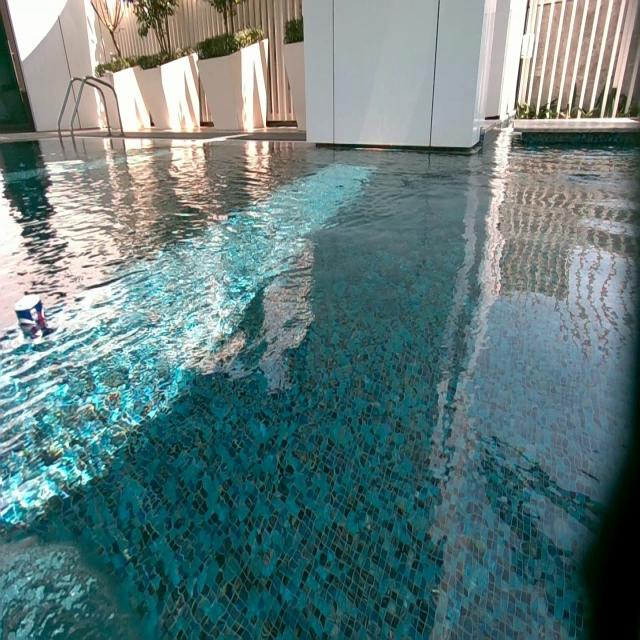Cans: (14, 293, 43, 328)
